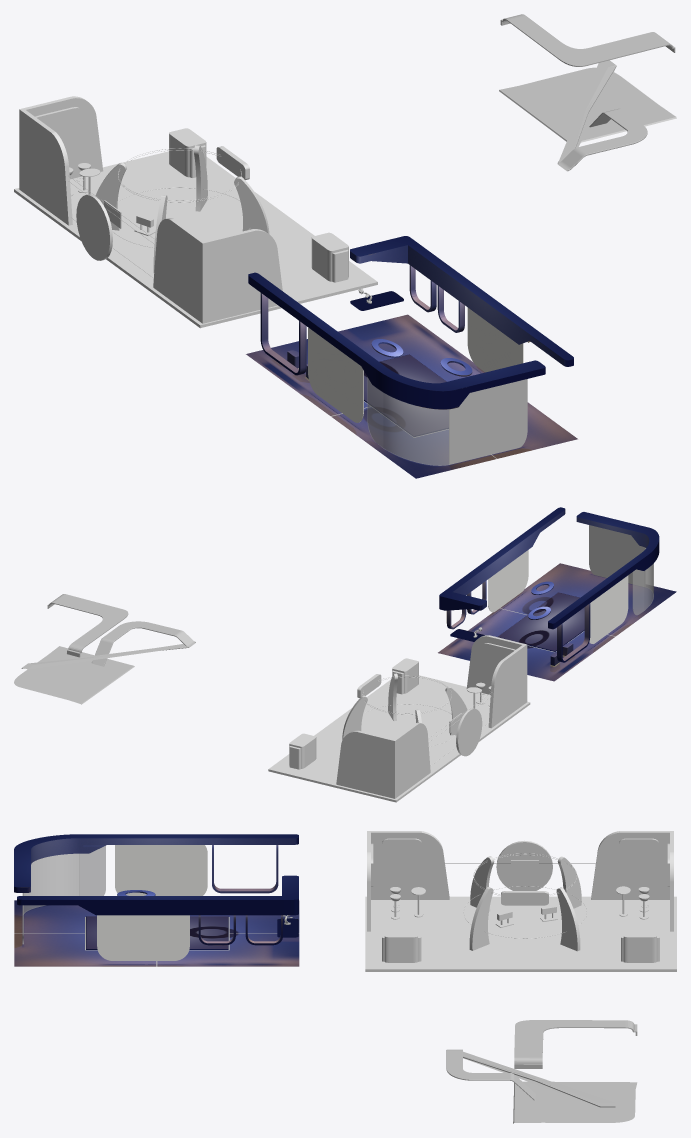
Rendered from booth3.FBX.
3 views of the same model, one above another, from view 1: azimuth 30°, elevation 25°; view 2: azimuth 150°, elevation 25°; view 3: azimuth 270°, elevation 25° (orthographic). The views are drawn at different scales.
Visible parts, largest first — view 1: Seat1.002, Box001, Object001, Line013, Screen, Glass, Line010, Line012, Whiteboard, counter, Line011, Whiteboard1 (+7 smaller); view 2: Seat1.002, Box001, Object001, Line011, Screen, Line012, Line010, counter, Whiteboard, Whiteboard1, Line013, Circle002 (+5 smaller); view 3: Seat1.002, Box001, Object001, Whiteboard, Whiteboard1, Glass, Line010, Line012, counter, Rectangle004, Rectangle002, Circle002 (+7 smaller).
Boxes of the visible parts, bbox=[...] form: Seat1.002: bbox=[246, 236, 577, 478]; Box001: bbox=[14, 151, 377, 328]; Object001: bbox=[499, 14, 676, 142]; Line013: bbox=[200, 229, 282, 323]; Screen: bbox=[449, 379, 527, 464]; Glass: bbox=[367, 377, 449, 465]; Line010: bbox=[21, 110, 72, 225]; Line012: bbox=[153, 218, 203, 321]; Whiteboard: bbox=[308, 327, 363, 422]; counter: bbox=[557, 60, 647, 171]; Line011: bbox=[19, 96, 103, 190]; Whiteboard1: bbox=[467, 307, 523, 372]; Seat1.002: bbox=[438, 507, 676, 681]; Box001: bbox=[268, 675, 530, 802]; Object001: bbox=[14, 594, 134, 704]; Line011: bbox=[336, 730, 396, 798]; Screen: bbox=[589, 525, 645, 586]; Line012: bbox=[488, 645, 525, 728]; Line010: bbox=[394, 722, 430, 797]; counter: bbox=[21, 621, 195, 669]; Whiteboard: bbox=[589, 575, 628, 643]; Whiteboard1: bbox=[488, 550, 528, 612]; Line013: bbox=[466, 635, 527, 703]; Circle002: bbox=[456, 708, 482, 756]; Seat1.002: bbox=[14, 834, 299, 966]; Box001: bbox=[365, 896, 676, 971]; Object001: bbox=[513, 1020, 637, 1123]; Whiteboard: bbox=[115, 845, 207, 895]; Whiteboard1: bbox=[97, 915, 189, 960]; Glass: bbox=[23, 846, 105, 914]; Line010: bbox=[591, 831, 669, 899]; Line012: bbox=[371, 831, 449, 899]; counter: bbox=[446, 1049, 615, 1107]; Rectangle004: bbox=[382, 838, 421, 897]; Rectangle002: bbox=[619, 838, 658, 897]; Circle002: bbox=[496, 840, 552, 890].
Bounding box in the file's own units: 2198 × 303 × 2615.
